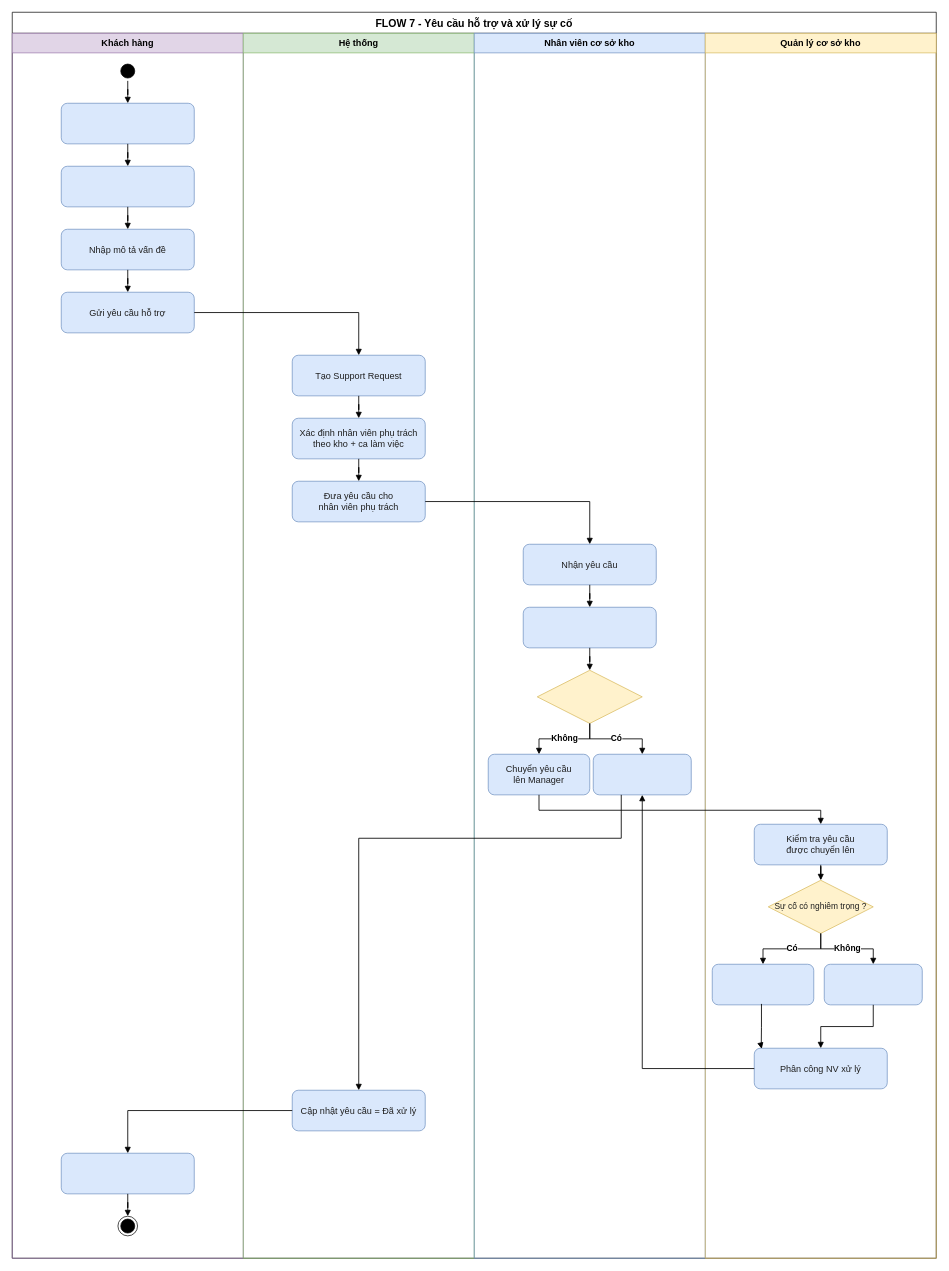
This 949x1271 diagram has some shape labels left out. Here are the shapes that lost their labels. From the top down, the centre of each, then its label:
At (x=127, y=123): "Chọn kho cần hỗ trợ".
At (x=127, y=186): "Chọn loại sự cố".
At (x=589, y=627): "Kiểm tra sự cố".
At (x=589, y=696): "Có thể xử lý?".
At (x=642, y=774): "NV Xử lý sự cố".
At (x=763, y=984): "Đưa kho vào bảo trì, Và chuẩn bị kho khác cho KH".
At (x=873, y=984): "Quyết định phương án xử lý".
At (x=127, y=1173): "Xem kết quả xử lý".
